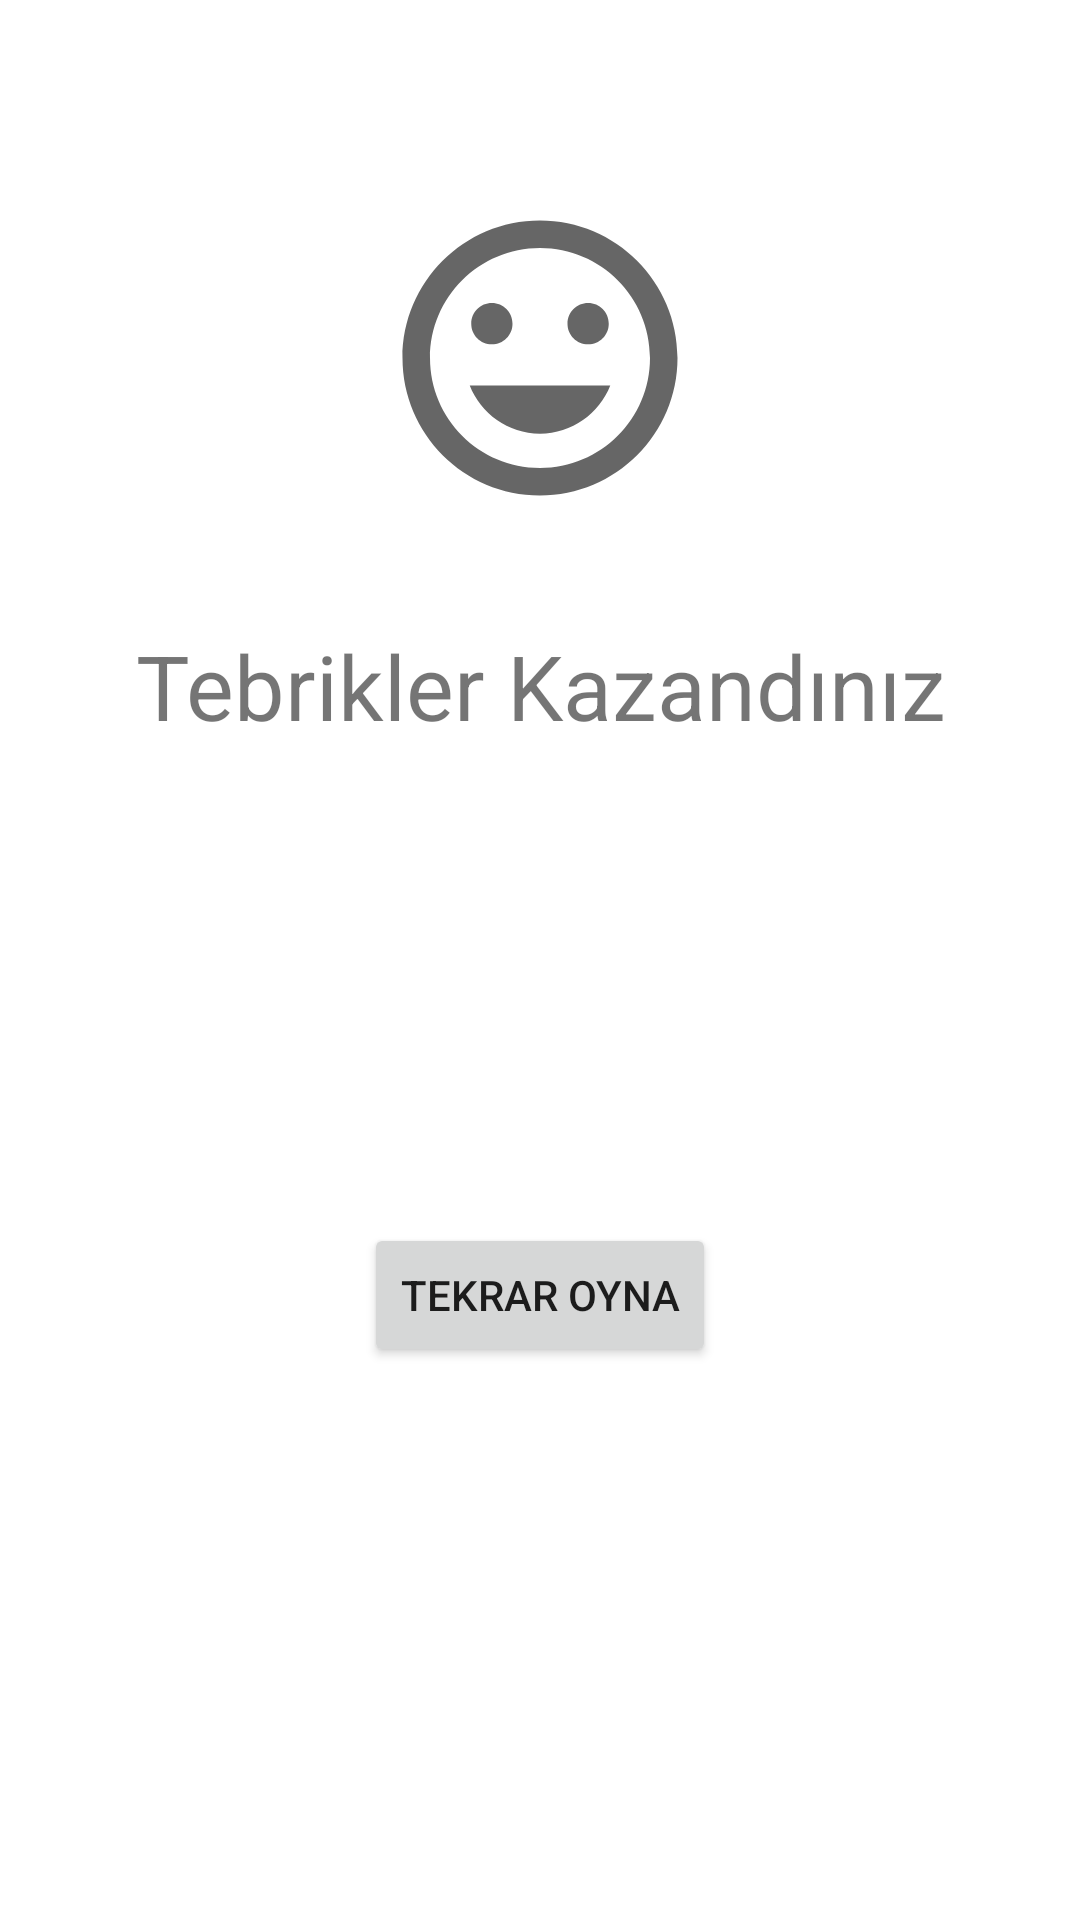

Named icons in this screenshot (1080 x 1920) and their centers, point (x, y):
smile face: point (540, 358)
